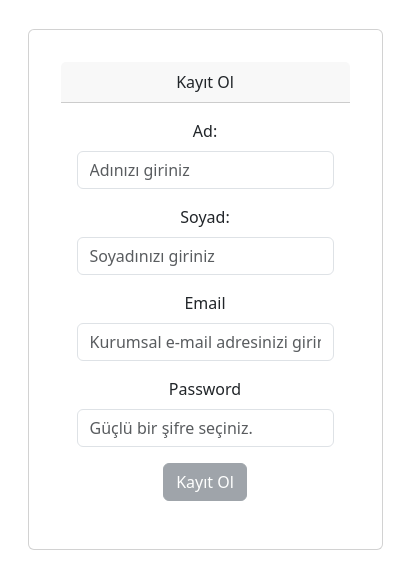
Scenario: Login Page › Error Messages › Surname input throws for 2 chars
The width and height of the screenshot is (412, 579).
Step 1. Type "sa" into the field with test id "soyad-input" → (206, 256), box x1=77 y1=237 x2=334 y2=275
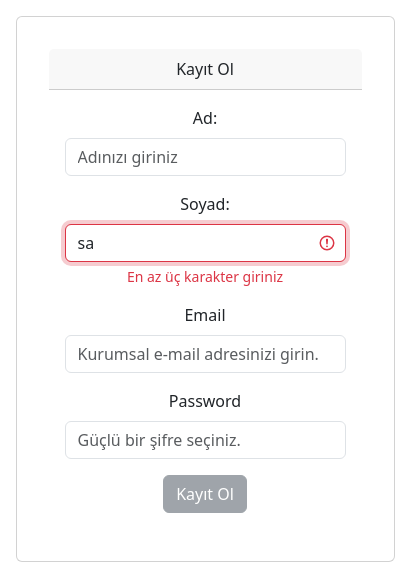
Now the text "En az üç karakter giriniz" is shown, box x1=127 y1=267 x2=283 y2=286
